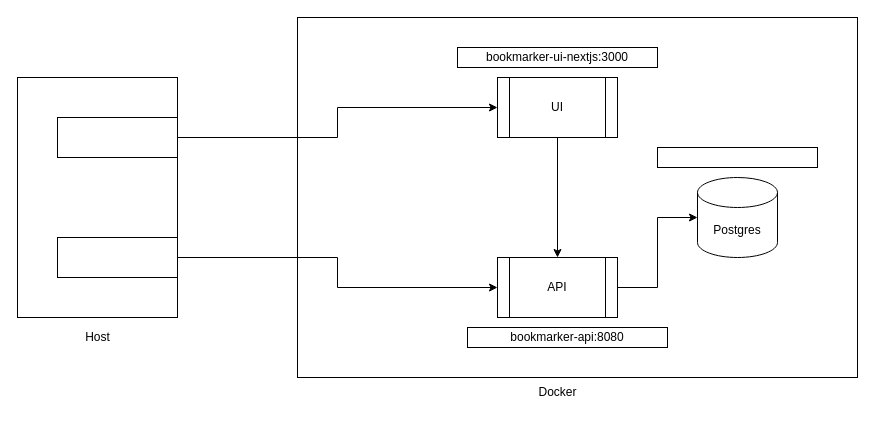
Image size: 875x425. Some labels were removed from this diagram. Each missing label, with the box of its shape:
bookmarker-db:5432: (656, 146, 818, 168)
localhost:13000: (56, 116, 178, 158)
localhost:18080: (56, 236, 178, 278)
